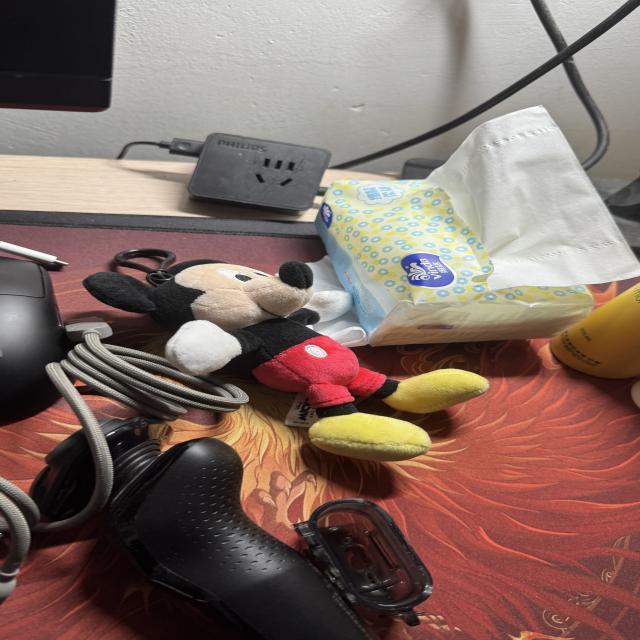mickey: (85, 260, 488, 460)
tissue: (317, 108, 639, 344)
